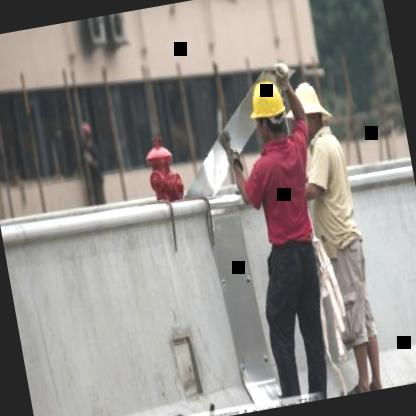helmet: (240, 69, 298, 150)
